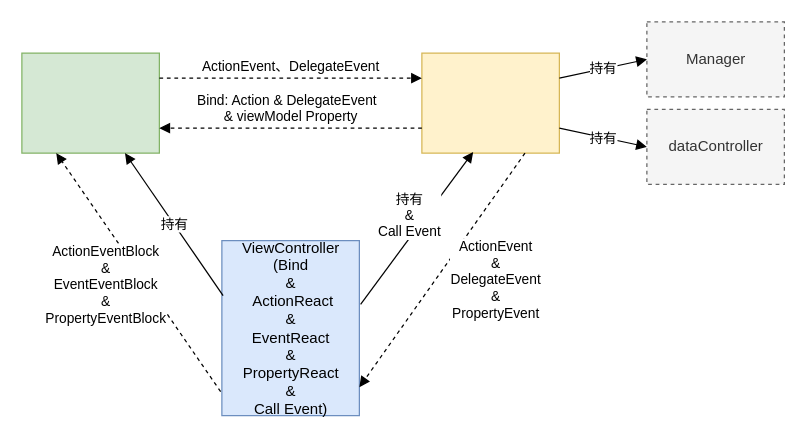
The diagram is 806 pixels wide and 440 high, and some of its shapes have lost their labels. The shapes that lost their labels are listed below. From the top down, each one's centre as x and y in pixels, then its label:
[90,102]: View (set UI)
[490,102]: ViewModel (handle Event)
